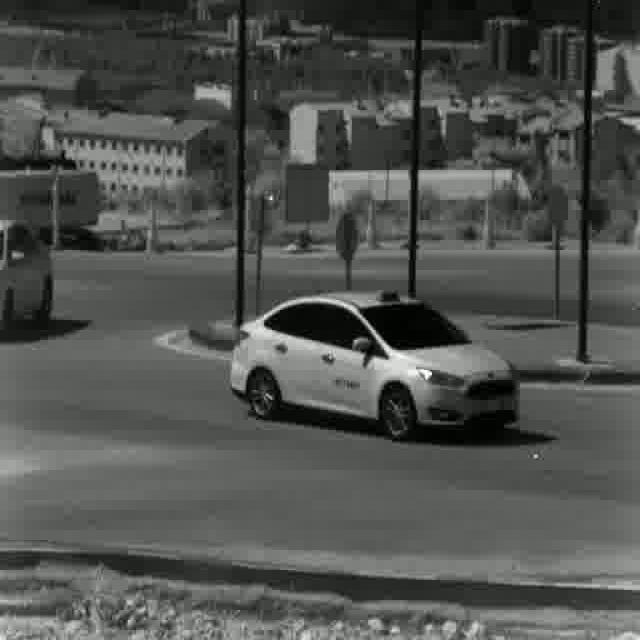Car: (226, 292, 520, 446), (0, 214, 55, 330)
